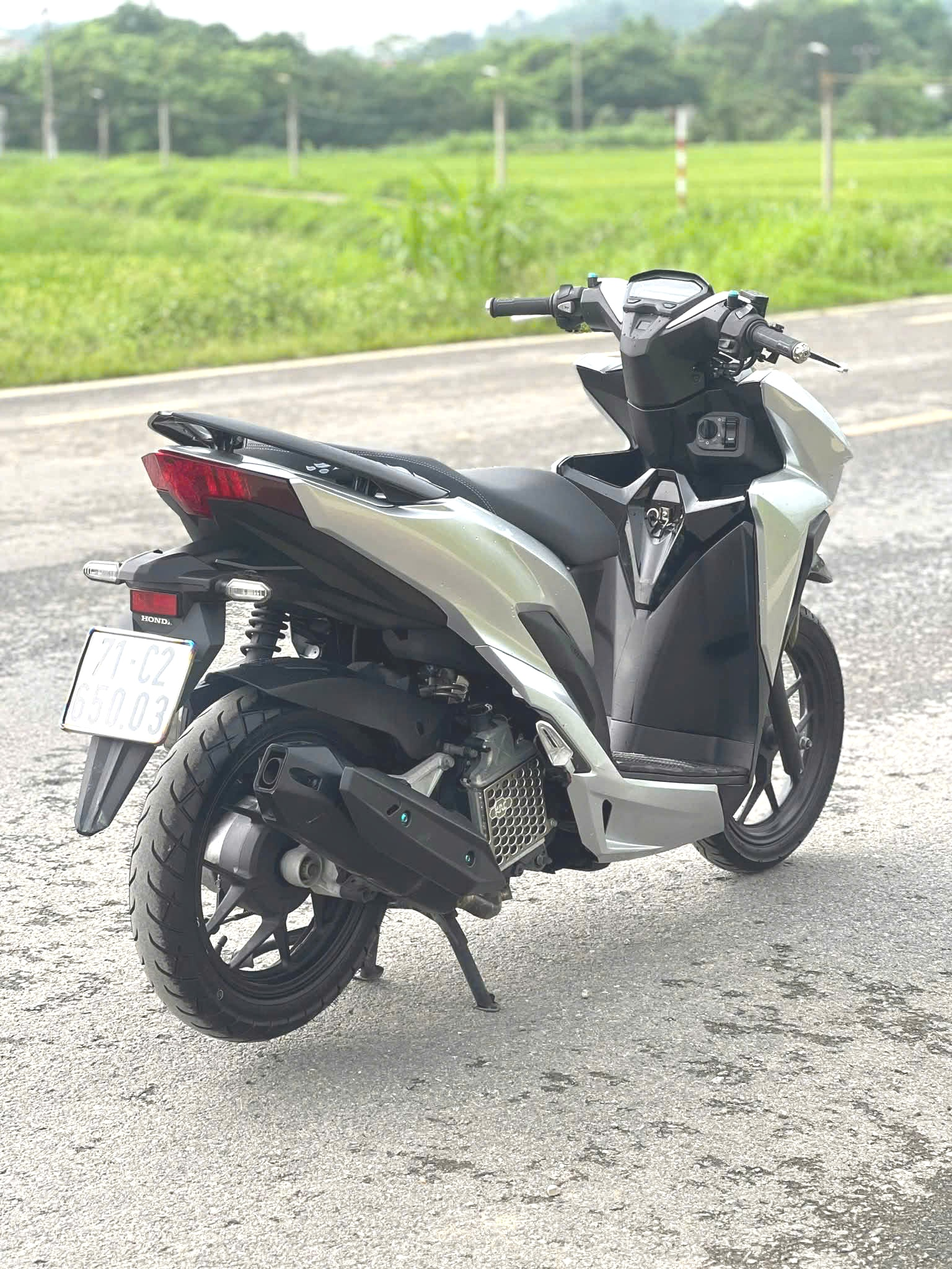Bien-so: (62, 622, 196, 747)
